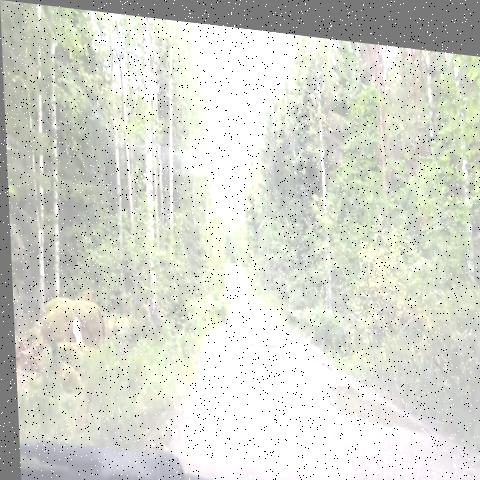pothole: (312, 353, 426, 437), (395, 451, 480, 480), (234, 328, 294, 359)
